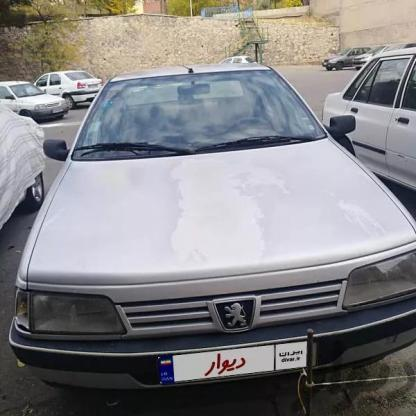Car: (9, 36, 416, 416), (328, 43, 416, 215), (0, 83, 83, 125), (39, 67, 106, 104), (318, 50, 364, 69)
